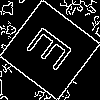E: (24, 24, 81, 79)
